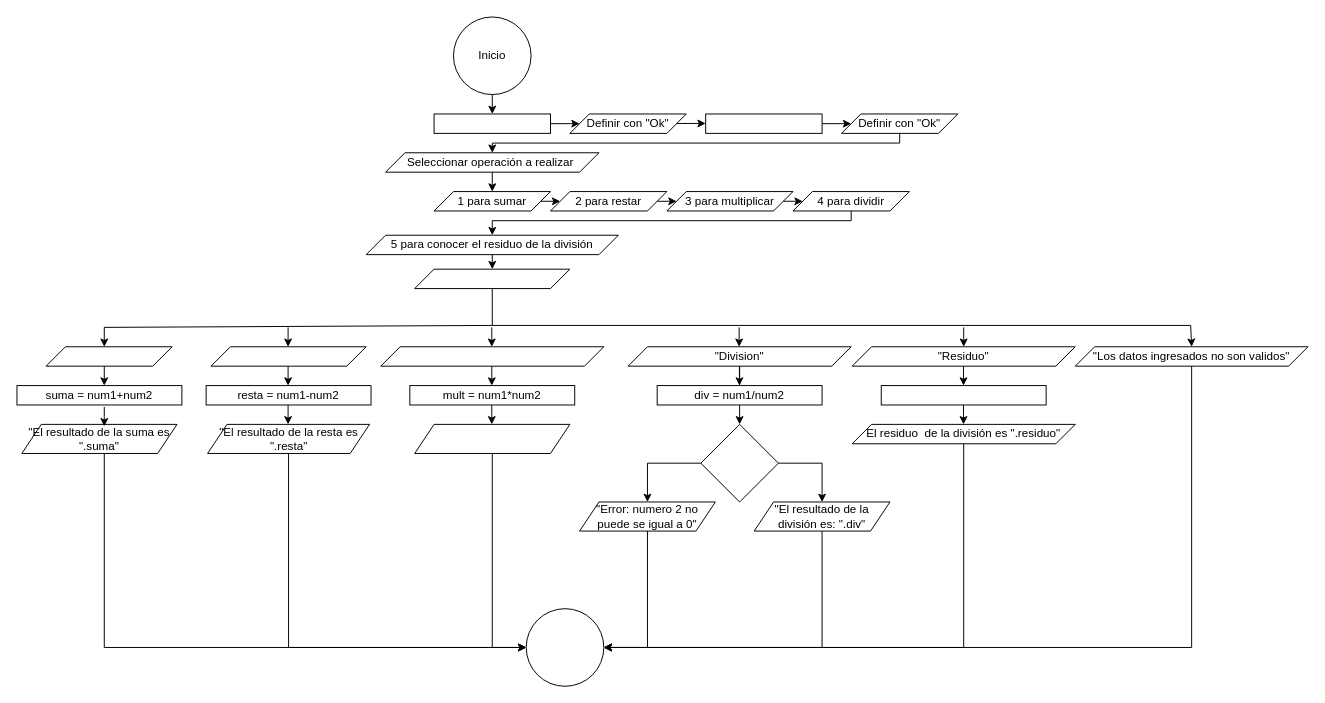
The diagram is 1325 pixels wide and 703 high, and some of its shapes have lost their labels. The shapes that lost their labels are listed below. From the top down, each one's centre as x and y in pixels, then its label:
point (491, 123): Ingrese numero 1
point (763, 123): Ingrese numero 2
point (492, 278): operación
point (108, 356): "Suma"
point (288, 356): "Resta"
point (492, 356): "Multiplicación"
point (963, 395): residuo = num1 MOD num2
point (492, 438): "El resultado de la multiplicación es ".mult"
point (739, 462): n um2 ≠ 0
point (564, 647): Final del algoritmo
